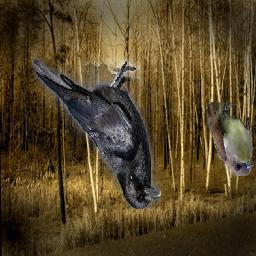Crow: (33, 59, 162, 210)
Cuckoo: (206, 102, 254, 176)
